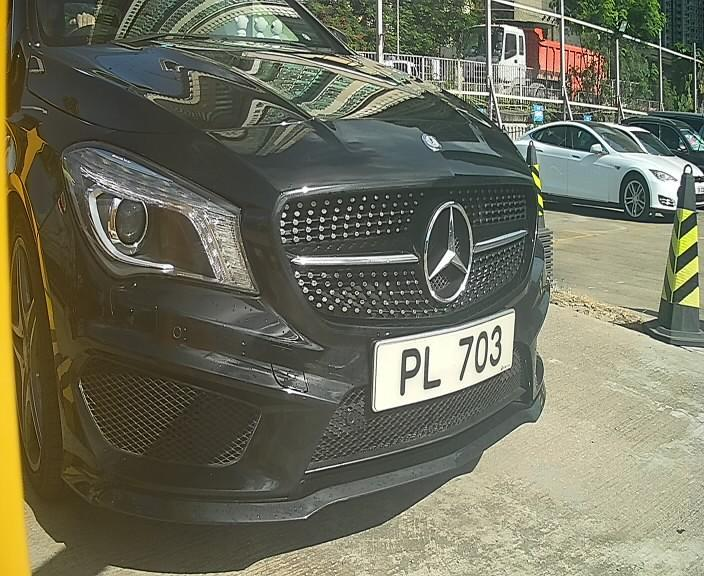License Plate: (365, 312, 522, 412)
